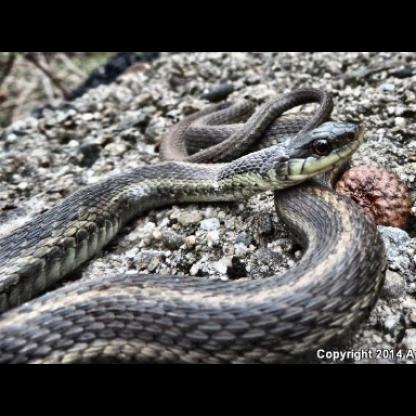Snake: (17, 84, 389, 346)
